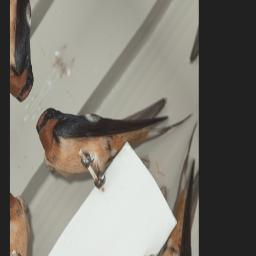Swallow: (30, 0, 193, 247)
